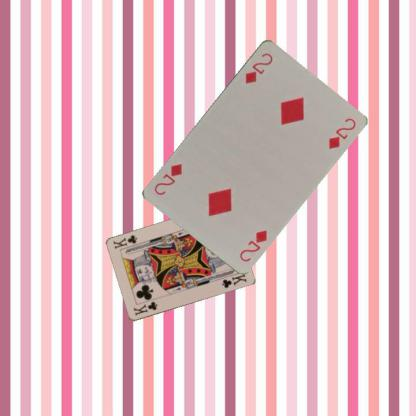2d: (236, 226, 269, 263), (242, 50, 274, 85)
Kc: (131, 299, 158, 317)
